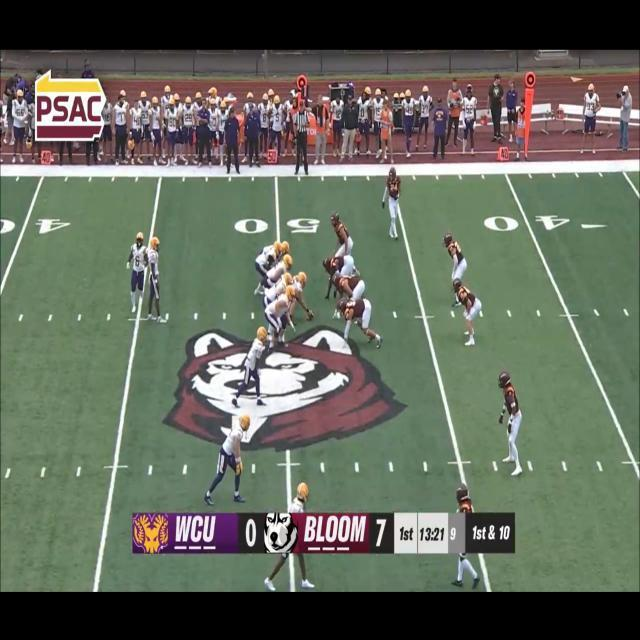football: (304, 310, 316, 322)
